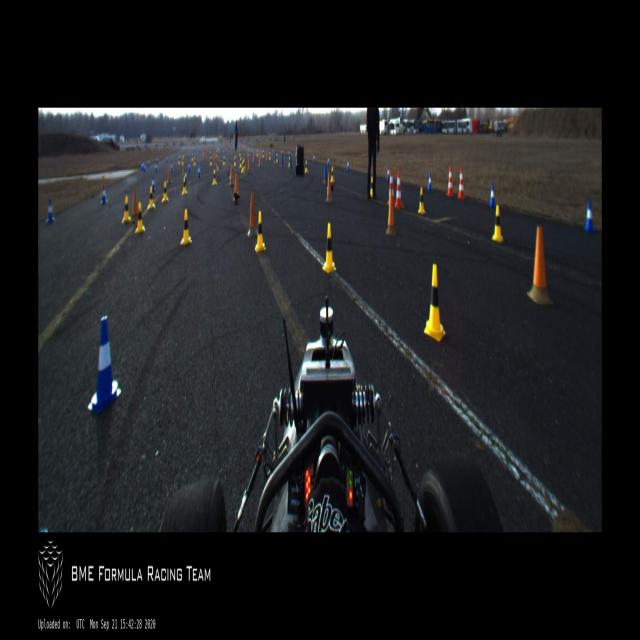blue_cone: (88, 315, 121, 413), (584, 199, 595, 232), (46, 198, 56, 224), (488, 184, 496, 207), (100, 185, 108, 204), (428, 172, 432, 191), (323, 163, 327, 180), (152, 176, 156, 192), (197, 161, 201, 177), (386, 165, 389, 181), (185, 170, 188, 182), (188, 162, 191, 172), (170, 162, 173, 172), (198, 166, 200, 178), (327, 157, 330, 165), (282, 153, 284, 165), (155, 164, 158, 172), (347, 160, 349, 171), (314, 154, 316, 163)
large_orange_cone: (394, 170, 404, 208), (457, 166, 466, 200), (387, 166, 394, 206), (447, 165, 454, 197)
unknown_cone: (526, 226, 554, 304), (386, 190, 396, 236), (247, 193, 257, 237), (326, 173, 334, 202), (132, 188, 137, 222), (233, 173, 239, 199), (229, 166, 234, 186), (167, 164, 172, 183), (100, 176, 104, 198), (247, 156, 250, 172), (258, 154, 262, 166), (182, 161, 185, 175), (253, 152, 255, 162)
yellow_cone: (424, 263, 446, 342), (322, 221, 337, 274), (254, 210, 266, 252), (180, 208, 192, 245), (492, 205, 503, 242), (134, 202, 146, 233), (122, 195, 132, 224), (418, 186, 426, 215), (147, 185, 156, 210), (162, 182, 169, 202), (182, 176, 187, 195), (212, 170, 217, 186), (370, 175, 373, 198), (331, 165, 334, 182), (305, 160, 308, 172), (243, 158, 246, 170), (241, 161, 244, 172), (288, 156, 290, 167), (240, 157, 242, 168), (234, 157, 236, 167), (223, 156, 225, 166), (210, 156, 212, 166), (276, 153, 278, 162), (194, 157, 196, 166), (269, 152, 271, 160), (178, 157, 180, 165), (182, 154, 183, 166)
